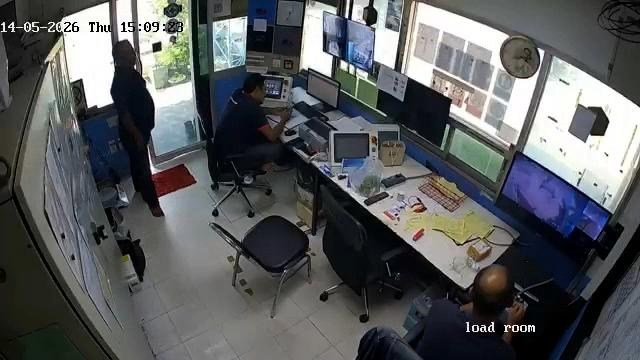Head: (470, 264, 516, 317), (241, 74, 267, 104), (112, 39, 138, 68)
People: (406, 264, 532, 360), (111, 39, 164, 219), (216, 73, 287, 172)
Phone: (284, 102, 295, 109)
